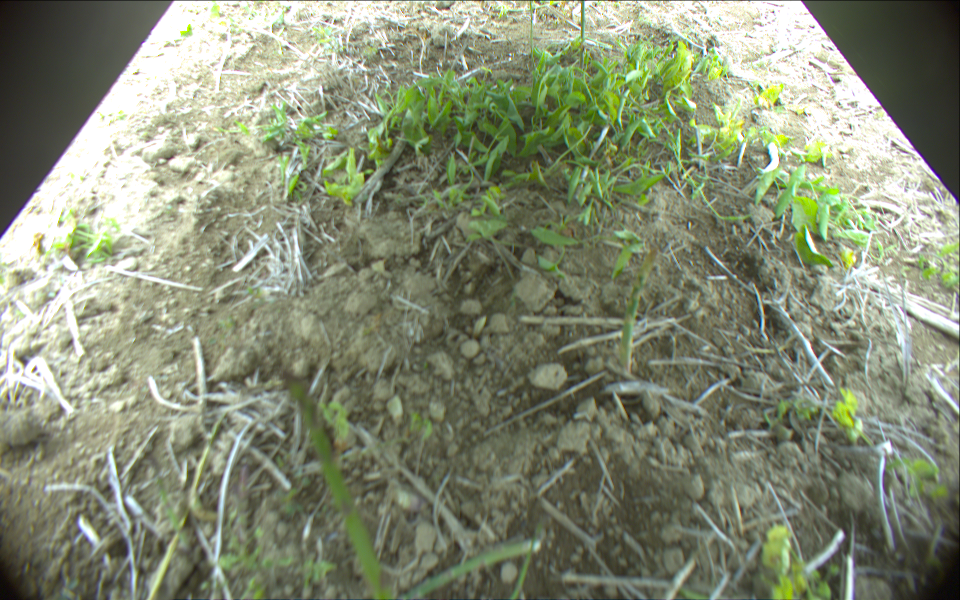aspa: (278, 369, 391, 600), (391, 533, 538, 600), (618, 247, 659, 368), (497, 1, 563, 11), (529, 1, 538, 61), (577, 1, 586, 43)
